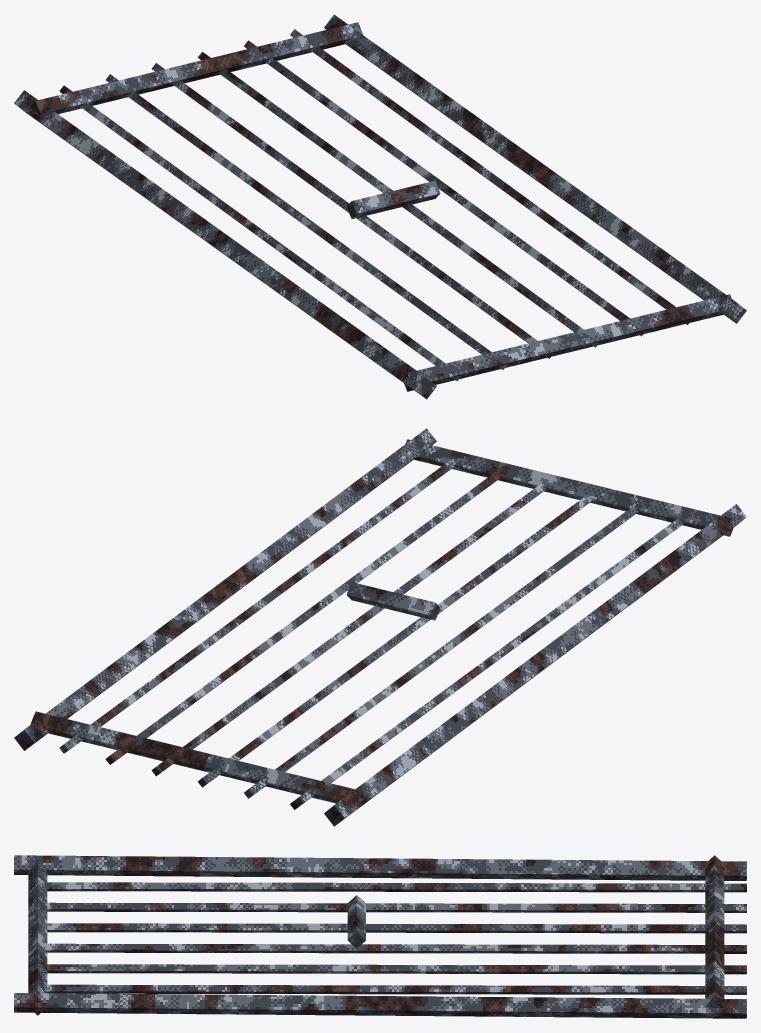
The model's file is SM_Prop_CellGateFallen_01.glb.
3 renders of one model, top to bottom at view 1: azimuth 30°, elevation 25°; view 2: azimuth 150°, elevation 25°; view 3: azimuth 270°, elevation 25°, orthographic. The views are drawn at different scales.
Visible parts, largest first — view 1: iron_frame_-1, iron_frame_1, iron_cross_1, iron_cross_0, iron_bar_0_0, iron_bar_1_0, iron_bar_5_0, iron_bar_4_0, iron_bar_2_0, iron_bar_3_0, iron_pull; view 2: iron_frame_-1, iron_frame_1, iron_cross_1, iron_cross_0, iron_bar_1_0, iron_bar_0_0, iron_bar_5_0, iron_bar_4_0, iron_bar_2_0, iron_bar_3_0, iron_pull; view 3: iron_frame_1, iron_frame_-1, iron_bar_0_0, iron_bar_4_0, iron_bar_5_0, iron_bar_3_0, iron_bar_2_0, iron_bar_1_0, iron_cross_1, iron_cross_0, iron_pull.
Part boxes in pixels (box(x1,y1,x2,y2)): iron_frame_-1: box(14, 90, 436, 399); iron_frame_1: box(324, 14, 746, 323); iron_cross_1: box(30, 22, 363, 119); iron_cross_0: box(404, 294, 731, 391); iron_bar_0_0: box(59, 85, 461, 381); iron_bar_1_0: box(106, 74, 507, 369); iron_bar_5_0: box(290, 29, 691, 324); iron_bar_4_0: box(244, 40, 645, 336); iron_bar_2_0: box(151, 63, 553, 358); iron_bar_3_0: box(198, 51, 599, 347); iron_pull: box(346, 180, 440, 218); iron_frame_-1: box(324, 504, 746, 826); iron_frame_1: box(14, 428, 436, 750); iron_cross_1: box(30, 711, 363, 808); iron_cross_0: box(405, 439, 733, 536); iron_bar_1_0: box(244, 506, 638, 798); iron_bar_0_0: box(290, 517, 684, 809); iron_bar_5_0: box(59, 461, 453, 753); iron_bar_4_0: box(105, 472, 499, 764); iron_bar_2_0: box(197, 494, 592, 787); iron_bar_3_0: box(151, 483, 545, 776); iron_pull: box(346, 582, 440, 620); iron_frame_1: box(14, 993, 746, 1018); iron_frame_-1: box(14, 855, 746, 880); iron_bar_0_0: box(45, 882, 746, 892); iron_bar_4_0: box(45, 964, 746, 974); iron_bar_5_0: box(45, 984, 746, 994); iron_bar_3_0: box(45, 943, 746, 953); iron_bar_2_0: box(45, 923, 746, 933); iron_bar_1_0: box(45, 902, 746, 912); iron_cross_1: box(705, 855, 724, 1015); iron_cross_0: box(28, 859, 47, 1015); iron_pull: box(347, 895, 365, 948).
Bounding box in the file's own units: 1.02 × 0.118 × 2.16.
1 material, 1 textured.
